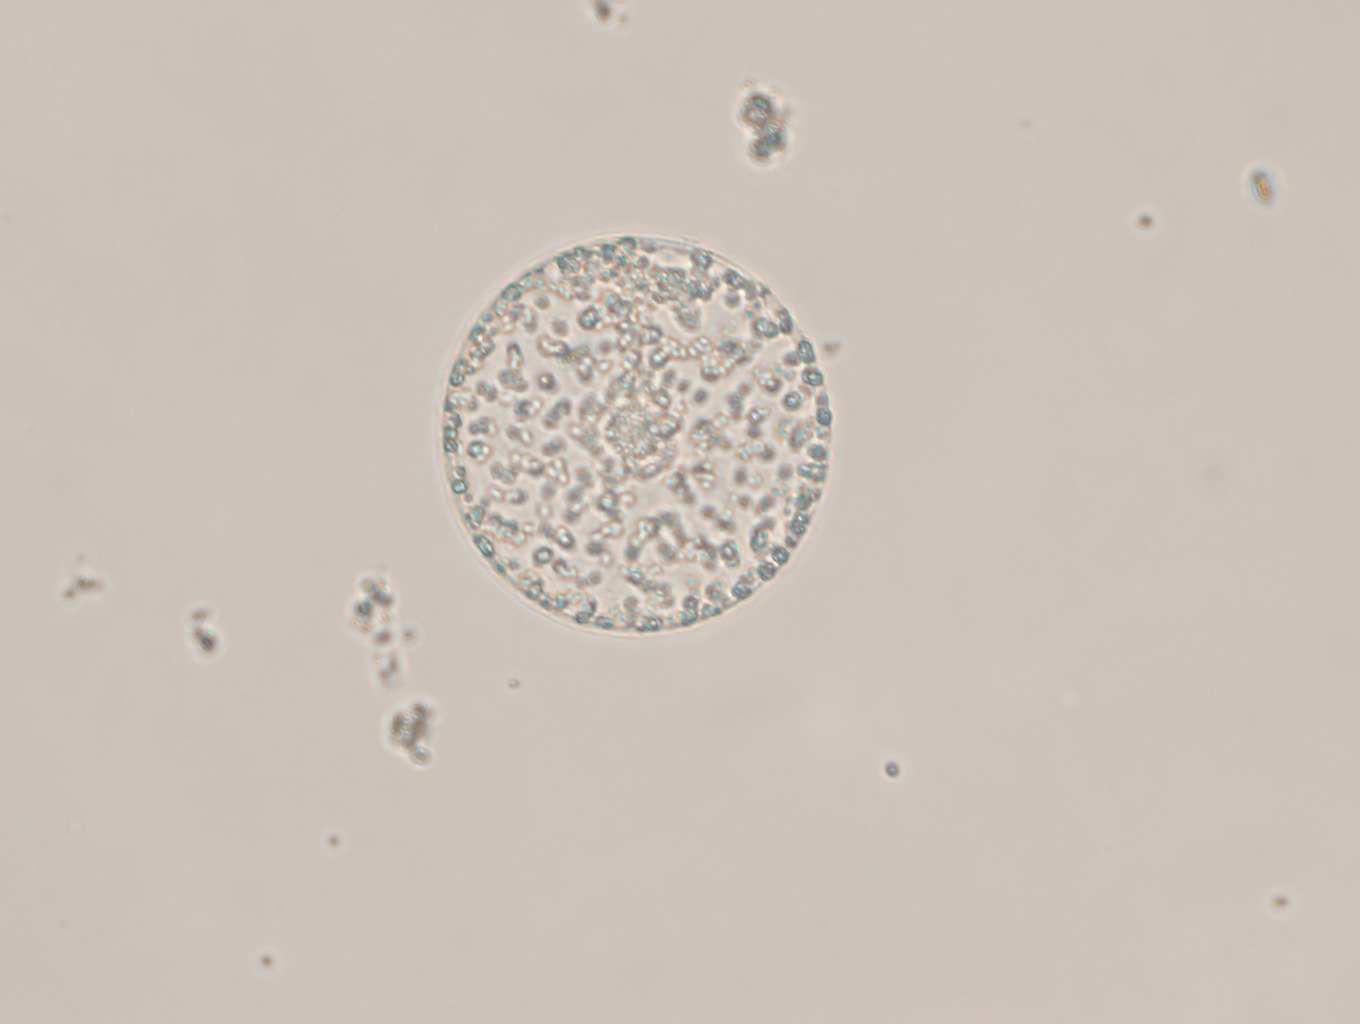coscinodiscus: (441, 233, 833, 632)
